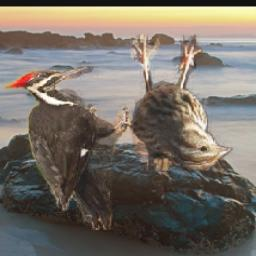Sparrow: (129, 35, 233, 171)
Woodpecker: (2, 66, 147, 230)
